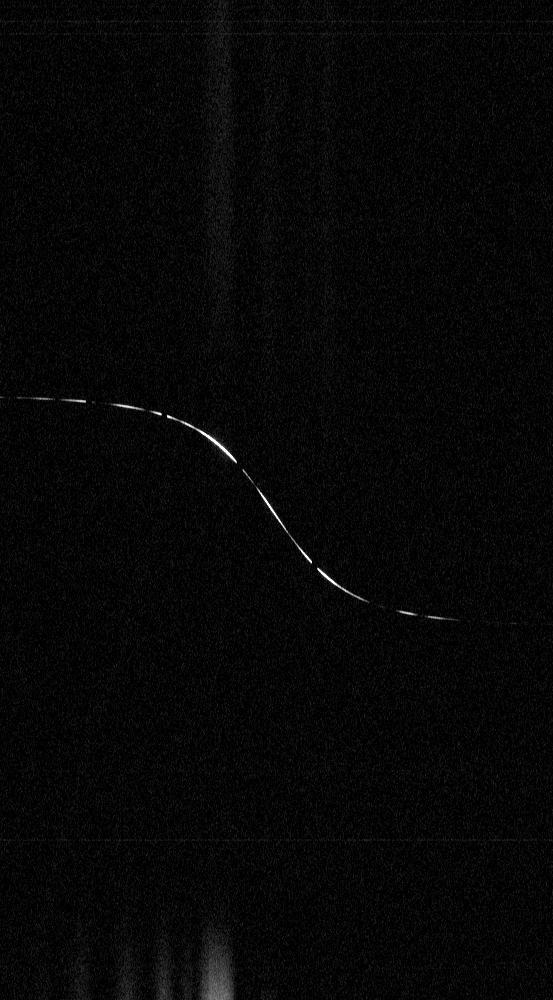signal: (0, 0, 552, 999)
